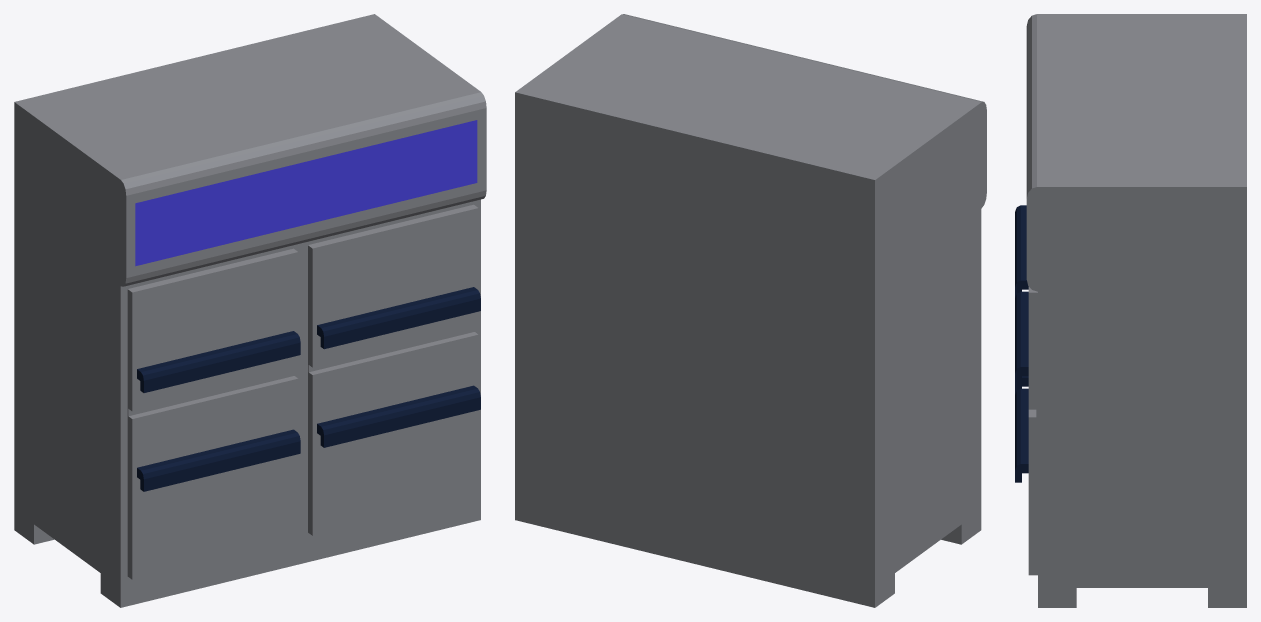
Rendered from fridge.fbx.
The picture shows the model from 3 angles, left to right: view 1: azimuth 30°, elevation 25°; view 2: azimuth 150°, elevation 25°; view 3: azimuth 270°, elevation 25°; orthographic projection.
Visible parts, largest first — view 1: fridge; view 2: fridge; view 3: fridge.
Boxes of the visible parts, x1,y1,x2,y2 form: fridge: (14, 14, 486, 607); fridge: (515, 14, 986, 607); fridge: (1015, 14, 1246, 607).
Bounding box in the file's own units: 244 × 277 × 138.
